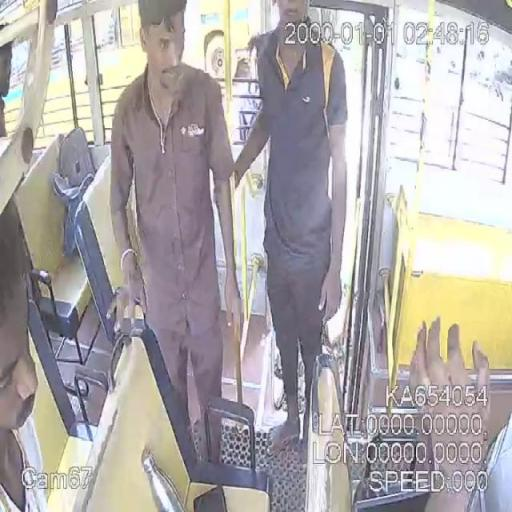persona: (108, 0, 243, 451), (231, 1, 349, 456), (0, 193, 48, 511)
